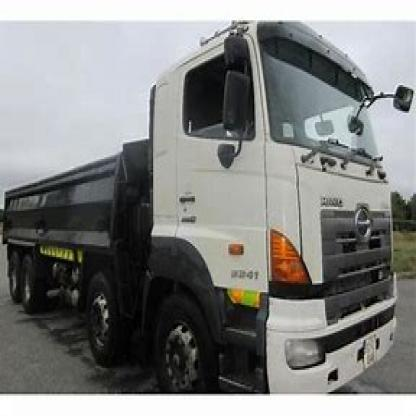dump_truck: (1, 18, 409, 394)
